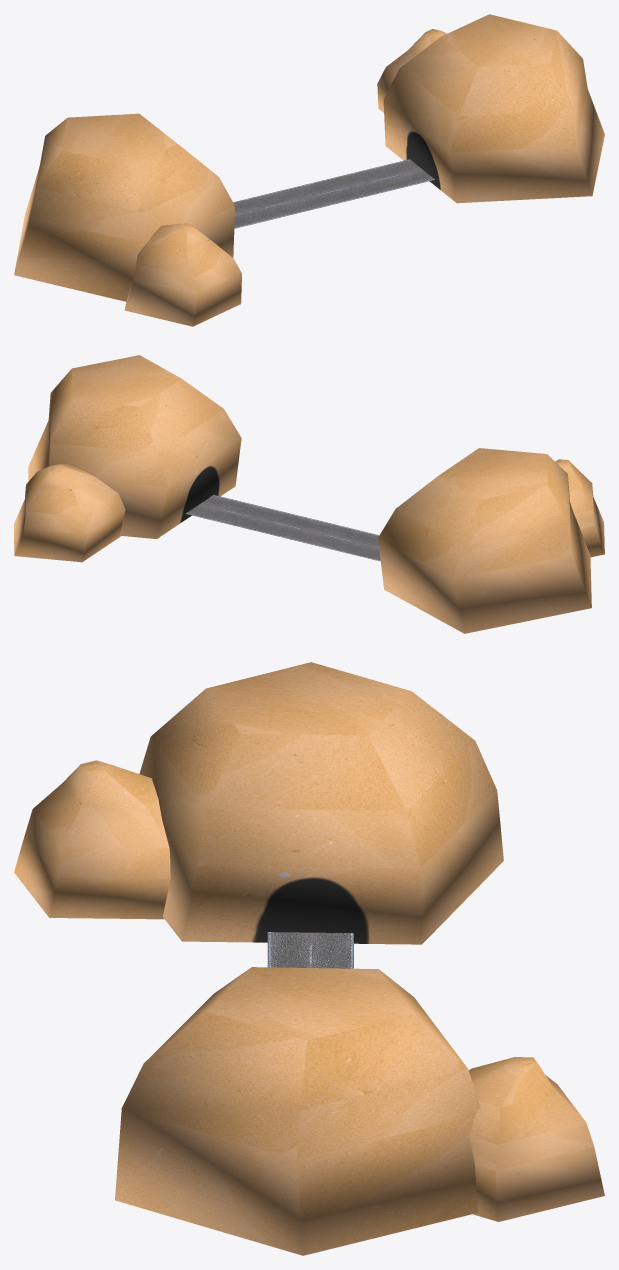
File: Opala4.glb
The picture shows the model from 3 angles, top to bottom: view 1: azimuth 30°, elevation 25°; view 2: azimuth 150°, elevation 25°; view 3: azimuth 270°, elevation 25°; orthographic projection. The views are drawn at different scales.
Visible parts, largest first — view 1: Cylinder, Cylinder.001, Plane; view 2: Cylinder.001, Cylinder, Plane; view 3: Cylinder, Cylinder.001, Plane.
Part boxes in pixels (left/top/right/bottom): Cylinder: left=14, top=113, right=241, bottom=326; Cylinder.001: left=377, top=14, right=604, bottom=203; Plane: left=233, top=159, right=434, bottom=228; Cylinder.001: left=14, top=355, right=241, bottom=562; Cylinder: left=378, top=448, right=604, bottom=633; Plane: left=185, top=495, right=380, bottom=561; Cylinder: left=14, top=662, right=503, bottom=944; Cylinder.001: left=115, top=967, right=604, bottom=1255; Plane: left=267, top=932, right=353, bottom=968.
Bounding box in the file's own units: 153 × 28.94 × 85.05.
3 materials, 3 textured.
